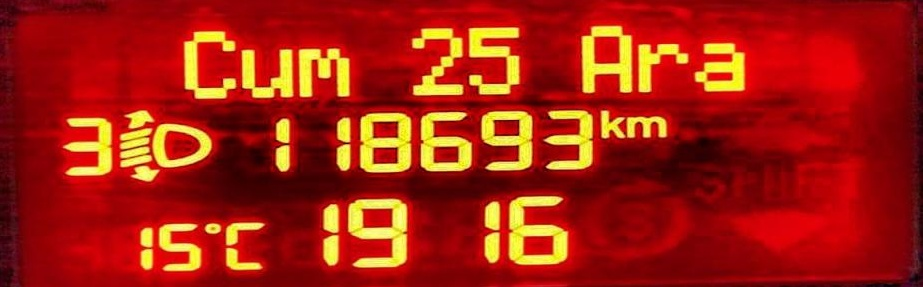1: (479, 195, 504, 264), (317, 199, 341, 269), (269, 113, 291, 176), (334, 113, 351, 171), (136, 222, 154, 271)
2: (412, 26, 463, 98)
3: (540, 105, 590, 174), (62, 114, 111, 176)
5: (466, 22, 525, 96), (154, 219, 201, 274)
6: (506, 193, 566, 268), (417, 109, 476, 175)
8: (357, 109, 413, 175)
9: (345, 193, 408, 269), (479, 110, 532, 171)
X: (181, 30, 237, 100), (579, 23, 633, 95), (235, 46, 294, 102), (297, 45, 350, 100), (635, 39, 687, 95), (224, 219, 269, 274), (698, 40, 742, 93), (626, 114, 669, 141), (600, 107, 628, 141)
